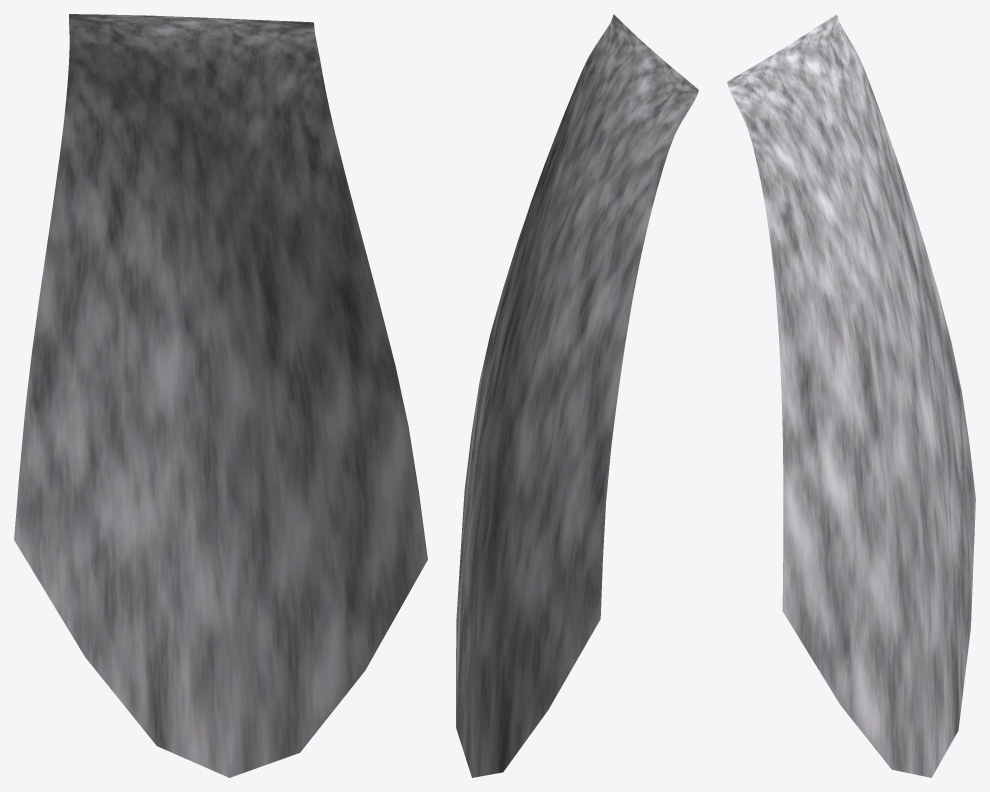
File: INST_MIRK_WATERFALL_WATERFALLINNEW01.obj
The picture shows the model from 3 angles, left to right: view 1: azimuth 30°, elevation 25°; view 2: azimuth 150°, elevation 25°; view 3: azimuth 270°, elevation 25°; orthographic projection. The views are drawn at different scales.
Visible parts, largest first — view 1: aterfallinnew01; view 2: aterfallinnew01; view 3: aterfallinnew01.
Boxes of the visible parts, x1,y1,x2,y2 form: aterfallinnew01: (14,14,427,777); aterfallinnew01: (456,14,698,777); aterfallinnew01: (727,14,975,777).
Size of the model in its own units: 506 by 1285 by 427.
